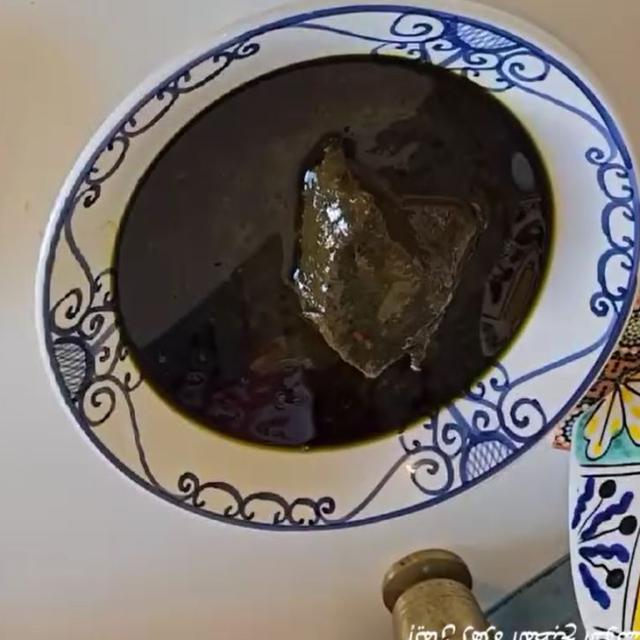Melloukhia: (67, 71, 597, 492)
